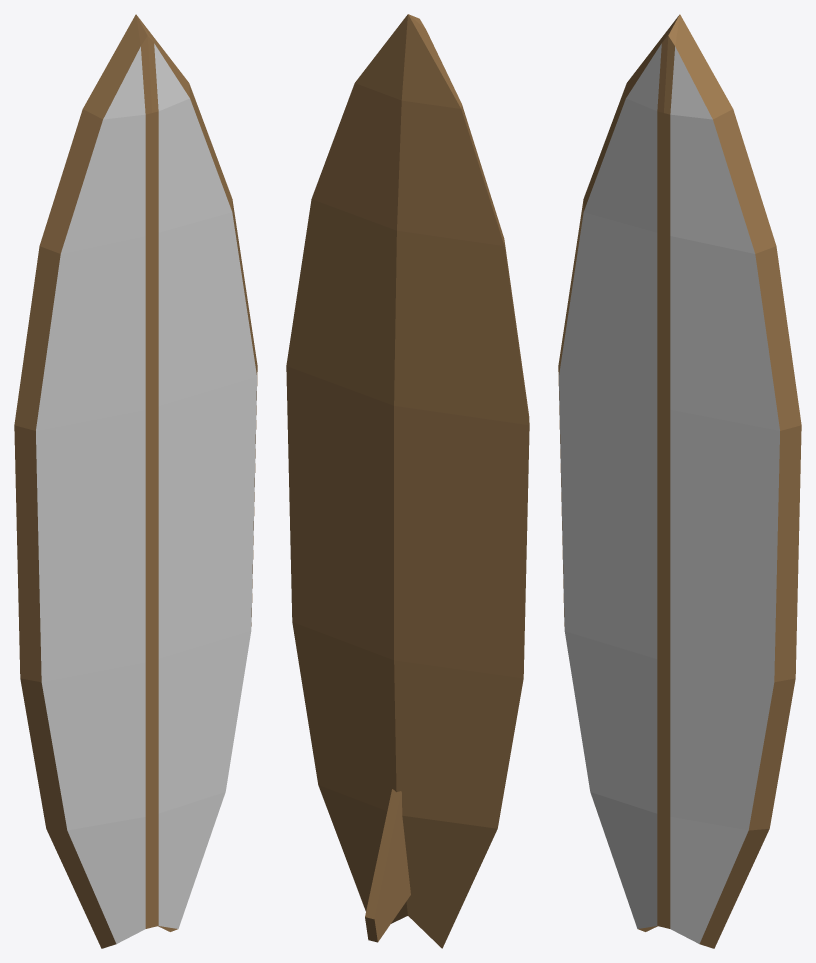
The model's file is surf01.fbx.
3 renders of one model, left to right at view 1: azimuth 30°, elevation 25°; view 2: azimuth 150°, elevation 25°; view 3: azimuth 330°, elevation 25°, orthographic.
Parts seen in each view (by area): view 1: surf_01; view 2: surf_01; view 3: surf_01.
Part boxes in pixels (x1,y1,x2,y2): surf_01: (14, 14, 257, 948); surf_01: (286, 14, 529, 948); surf_01: (558, 14, 801, 948).
Bounding box in the file's own units: 0.7545 × 0.2921 × 2.75.
